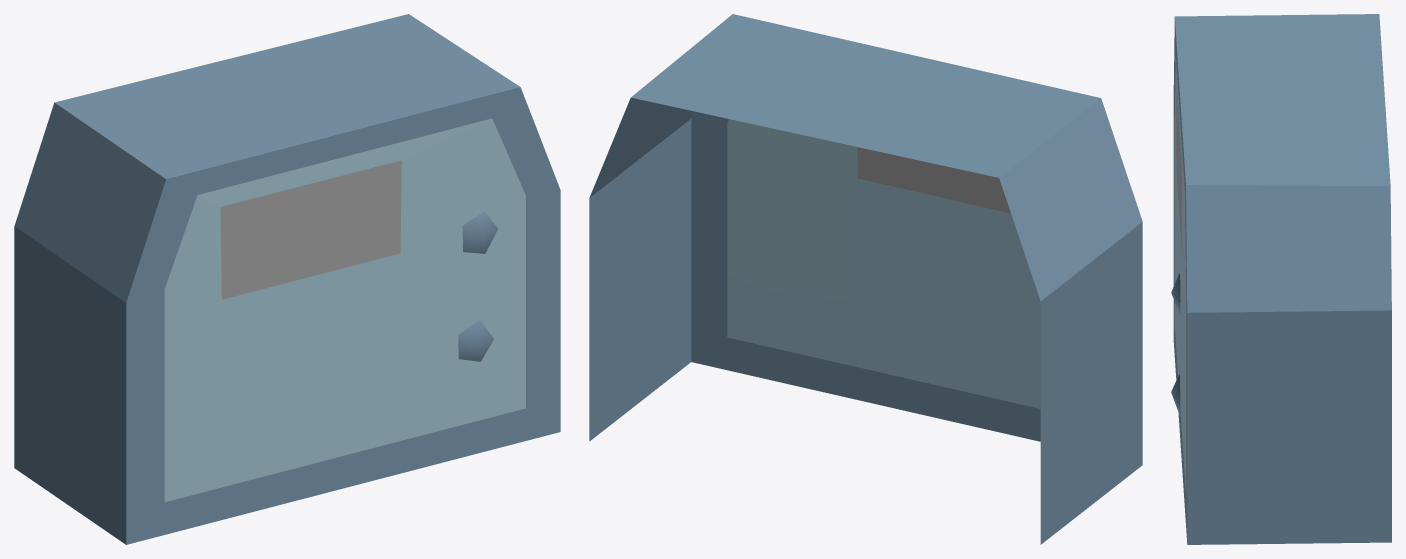
File: MSH_QuestObject_box_03.fbx
The picture shows the model from 3 angles, left to right: view 1: azimuth 30°, elevation 25°; view 2: azimuth 150°, elevation 25°; view 3: azimuth 270°, elevation 25°; orthographic projection. The views are drawn at different scales.
Parts seen in each view (by area): view 1: MSH_QuestObject_box_03; view 2: MSH_QuestObject_box_03; view 3: MSH_QuestObject_box_03.
Part boxes in pixels (x1=…): MSH_QuestObject_box_03: x1=14, y1=14, x2=560, y2=544; MSH_QuestObject_box_03: x1=589, y1=14, x2=1142, y2=544; MSH_QuestObject_box_03: x1=1171, y1=14, x2=1391, y2=544.
Size of the model in its own units: 0.6876 by 0.5227 by 0.3069.
